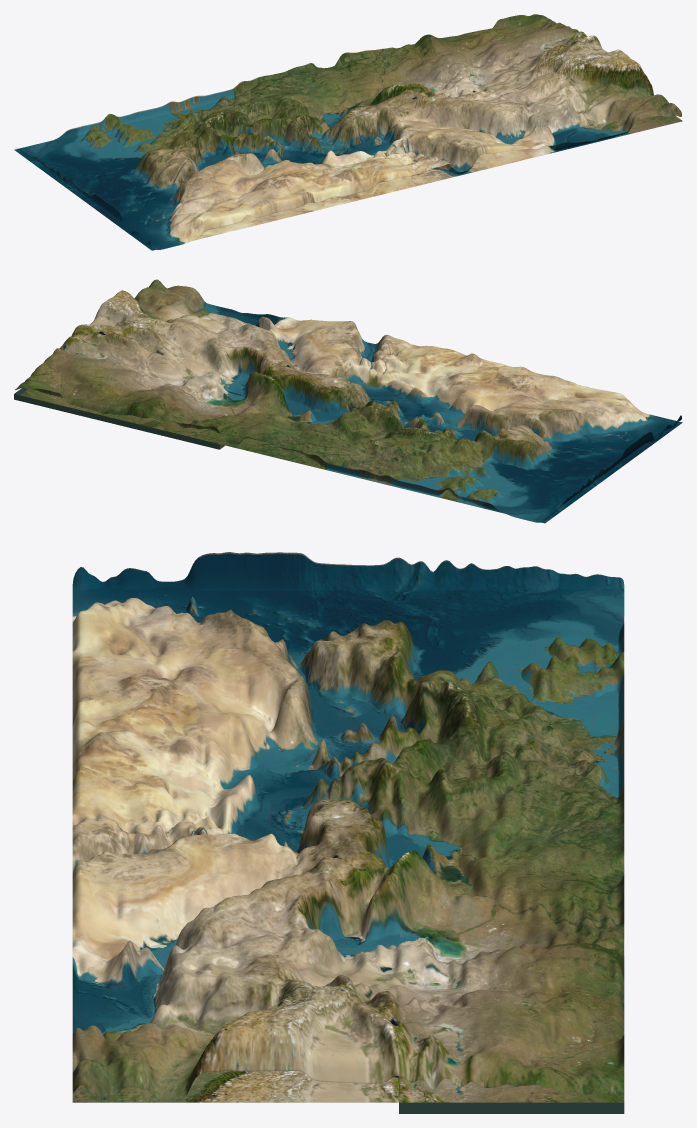
File: map2.fbx
The picture shows the model from 3 angles, top to bottom: view 1: azimuth 30°, elevation 25°; view 2: azimuth 150°, elevation 25°; view 3: azimuth 270°, elevation 25°; orthographic projection. The views are drawn at different scales.
Visible parts, largest first — view 1: Plane, Plane.001; view 2: Plane, Plane.001; view 3: Plane, Plane.001.
Boxes of the visible parts, left/top/right/bottom form: Plane: left=17, top=14, right=681, bottom=249; Plane.001: left=14, top=97, right=682, bottom=250; Plane: left=15, top=279, right=681, bottom=522; Plane.001: left=14, top=307, right=682, bottom=523; Plane: left=72, top=552, right=624, bottom=1099; Plane.001: left=72, top=587, right=624, bottom=1113.
Size of the model in its own units: 2000 by 142 by 900.
Materials: 2 (2 with a texture image).
